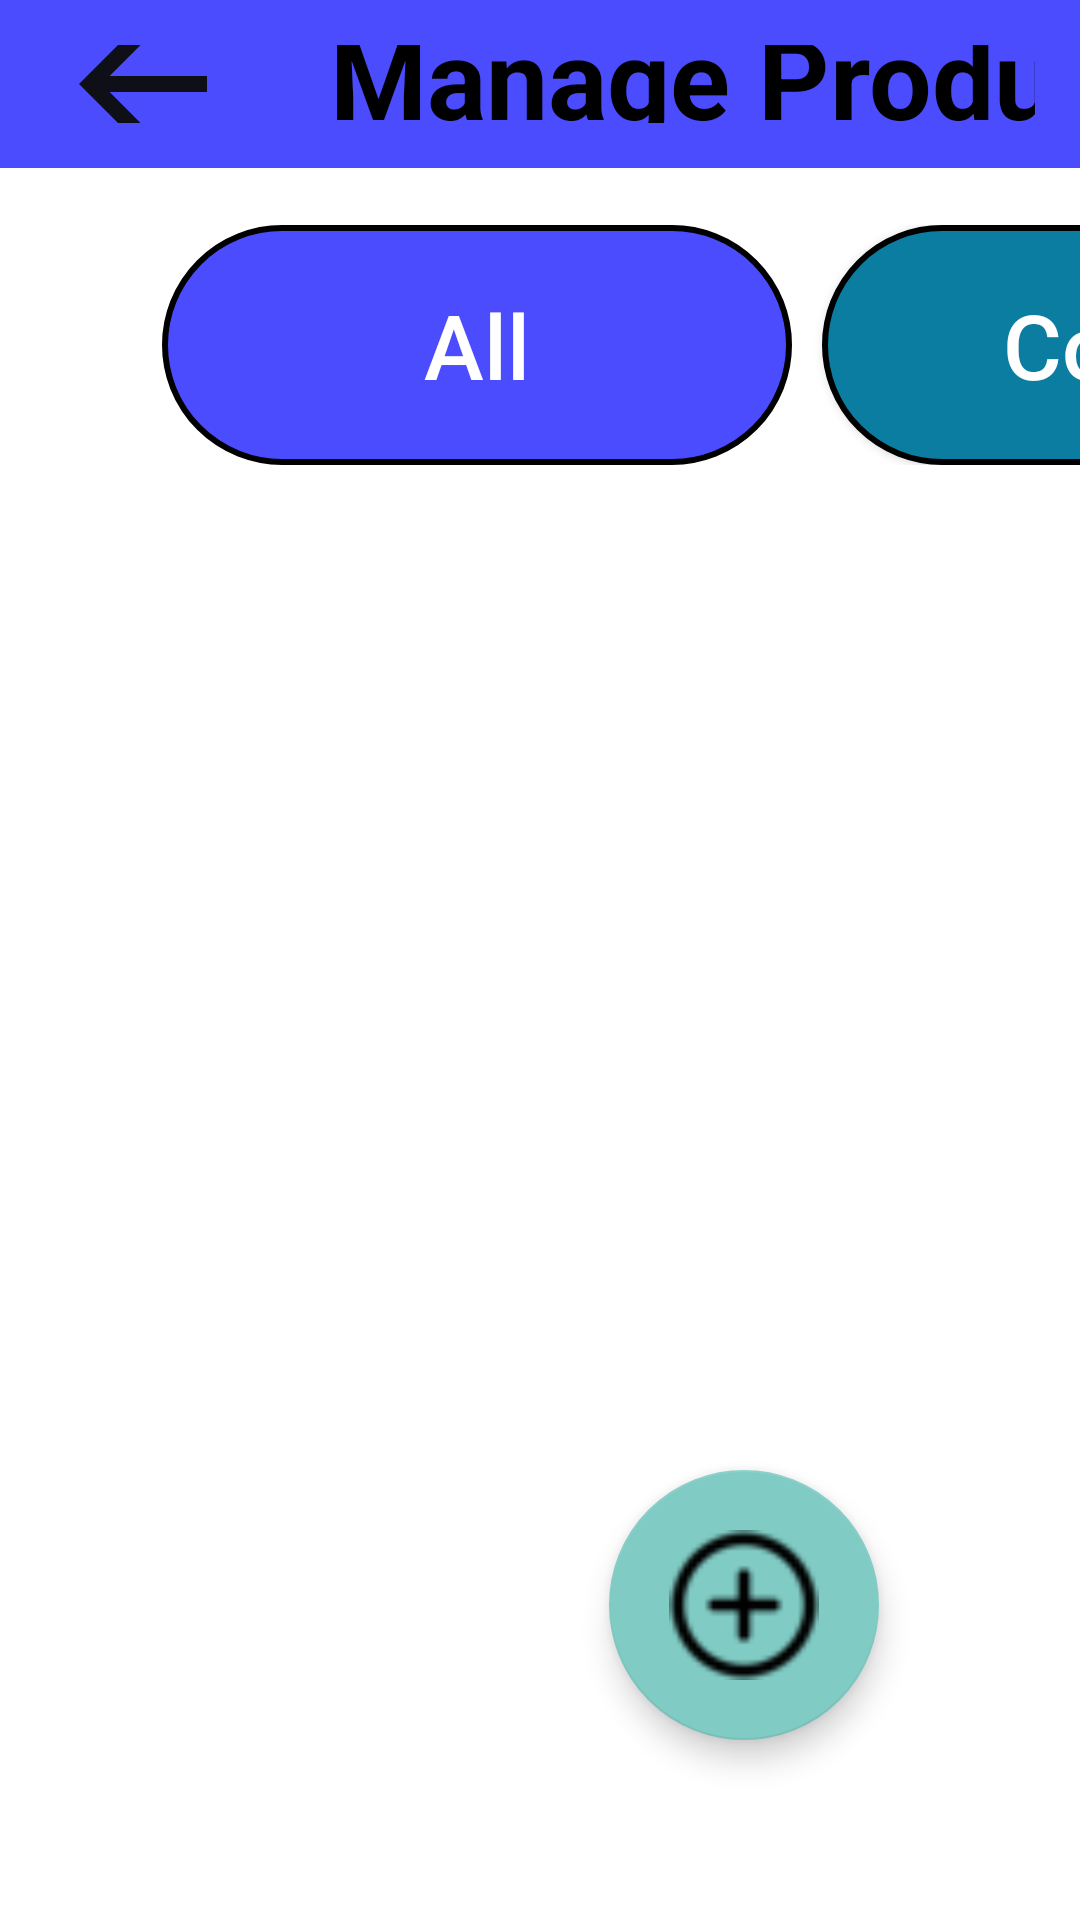

Icons on this 1080x1920 Android screen, each with the point to tap as (x=x, y=y):
add product: (x=744, y=1605)
